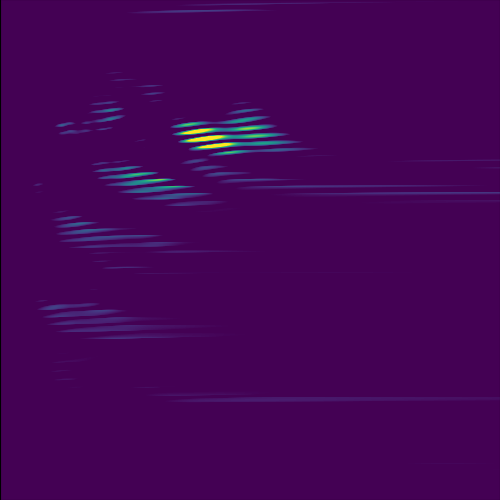semblance: (170, 118, 241, 157)
